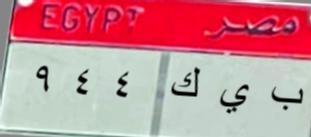4: (110, 65, 133, 103), (71, 65, 93, 100)
9: (35, 60, 56, 99)
baa: (269, 80, 305, 120)
kaaf: (167, 66, 204, 107)
yaa: (218, 79, 250, 118)
